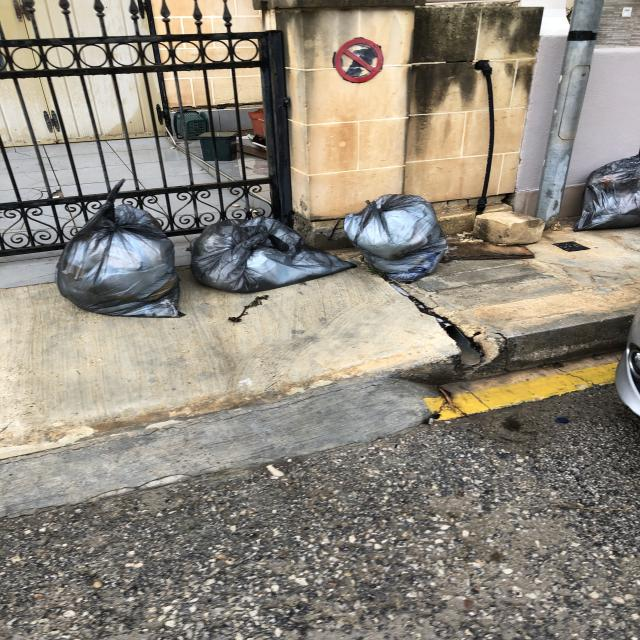Mixed Waste -Black Bag-: (58, 204, 187, 318), (191, 219, 356, 295), (346, 195, 452, 283), (571, 157, 640, 235)
